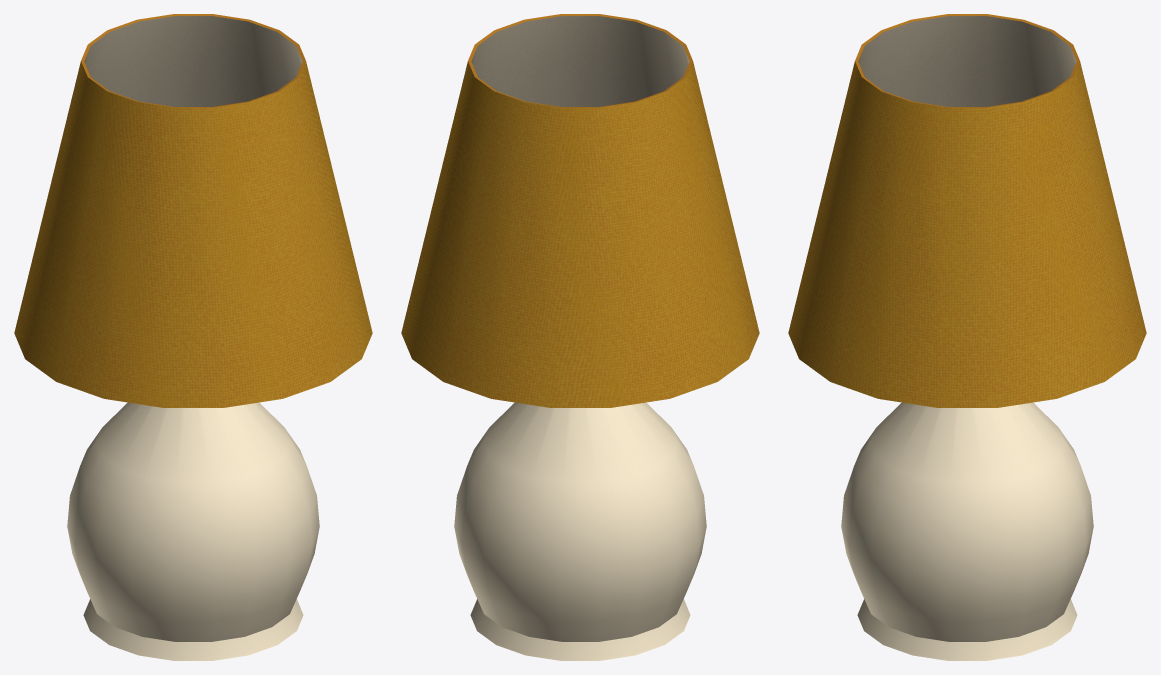
Rendered from c_lamp_02.fbx.
3 renders of one model, left to right at view 1: azimuth 30°, elevation 25°; view 2: azimuth 150°, elevation 25°; view 3: azimuth 270°, elevation 25°, orthographic.
Visible parts, largest first — view 1: c_lamp_02; view 2: c_lamp_02; view 3: c_lamp_02.
Boxes of the visible parts, <box> form: c_lamp_02: <box>14,14,372,660</box>; c_lamp_02: <box>401,14,759,660</box>; c_lamp_02: <box>788,14,1146,660</box>.
Bounding box in the file's own units: 33.66 × 58.32 × 34.18.
